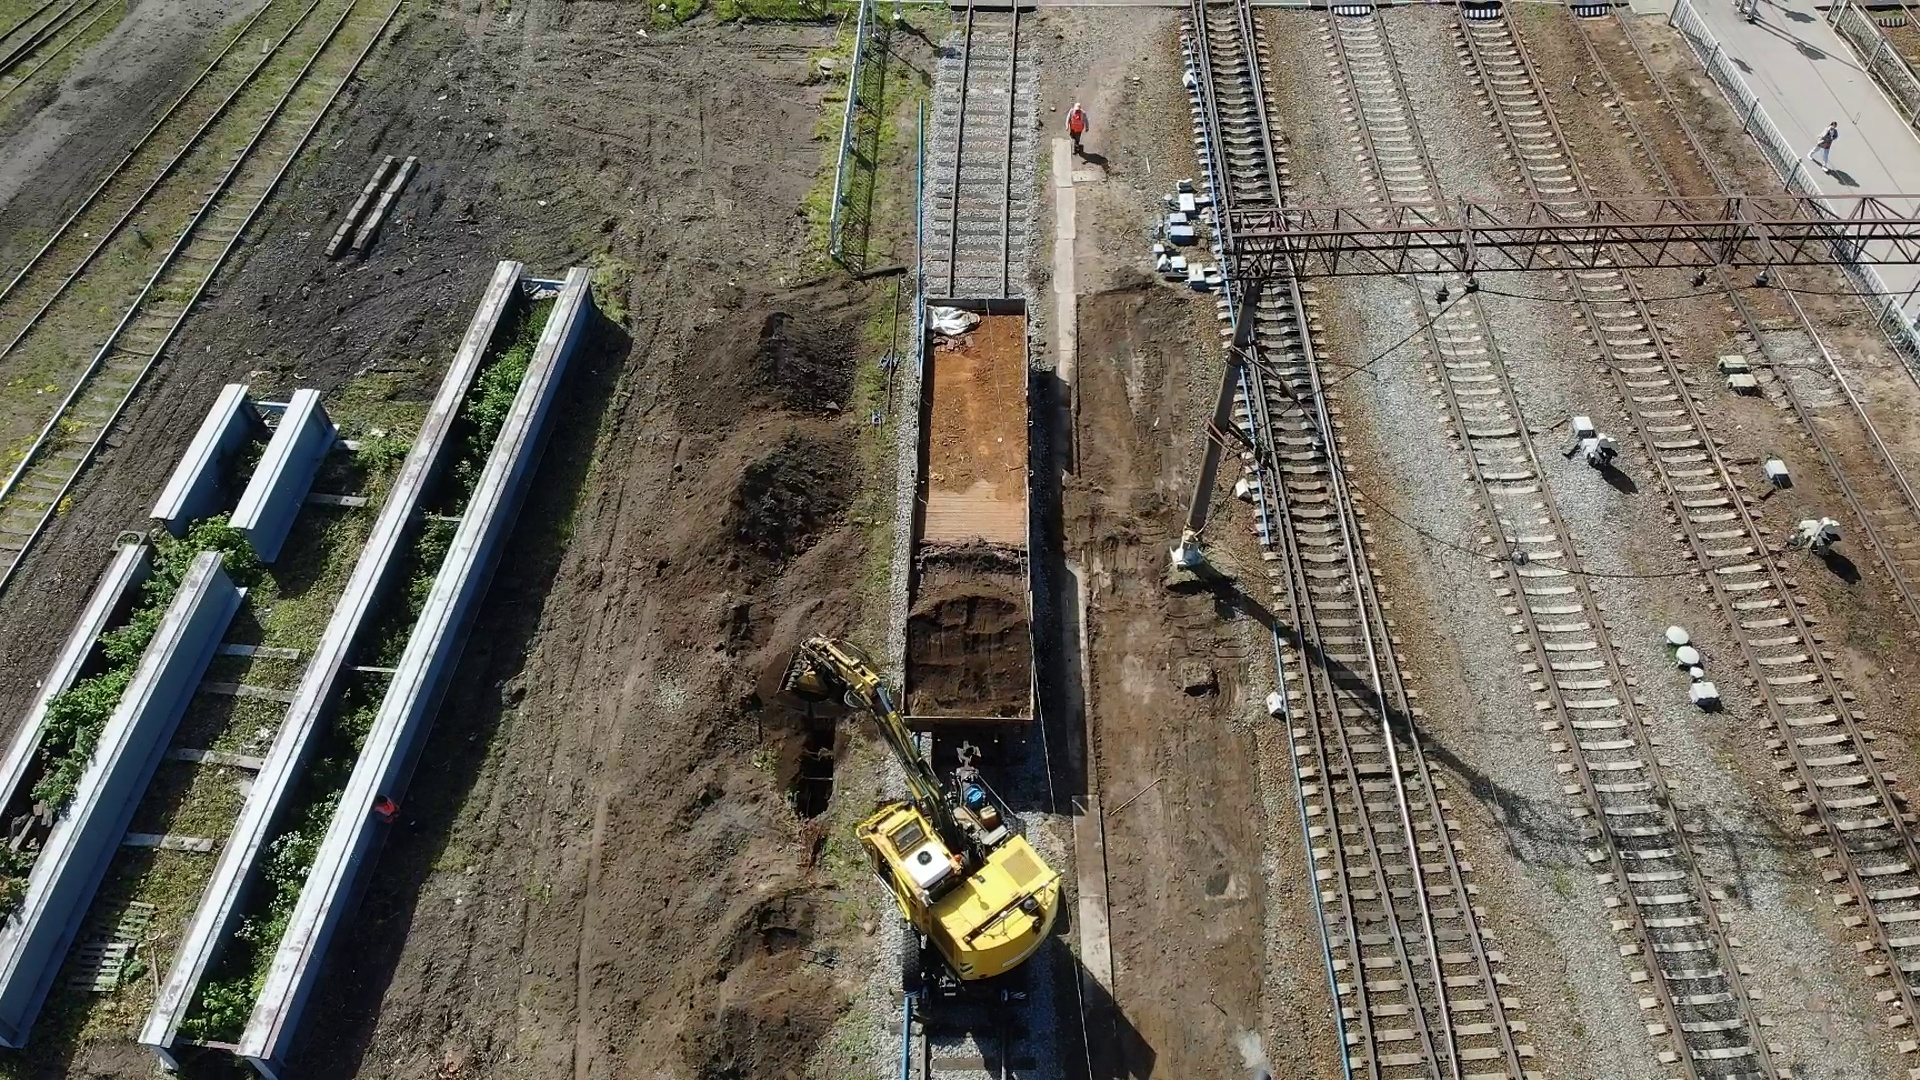kjtv: (865, 707, 1072, 1009)
